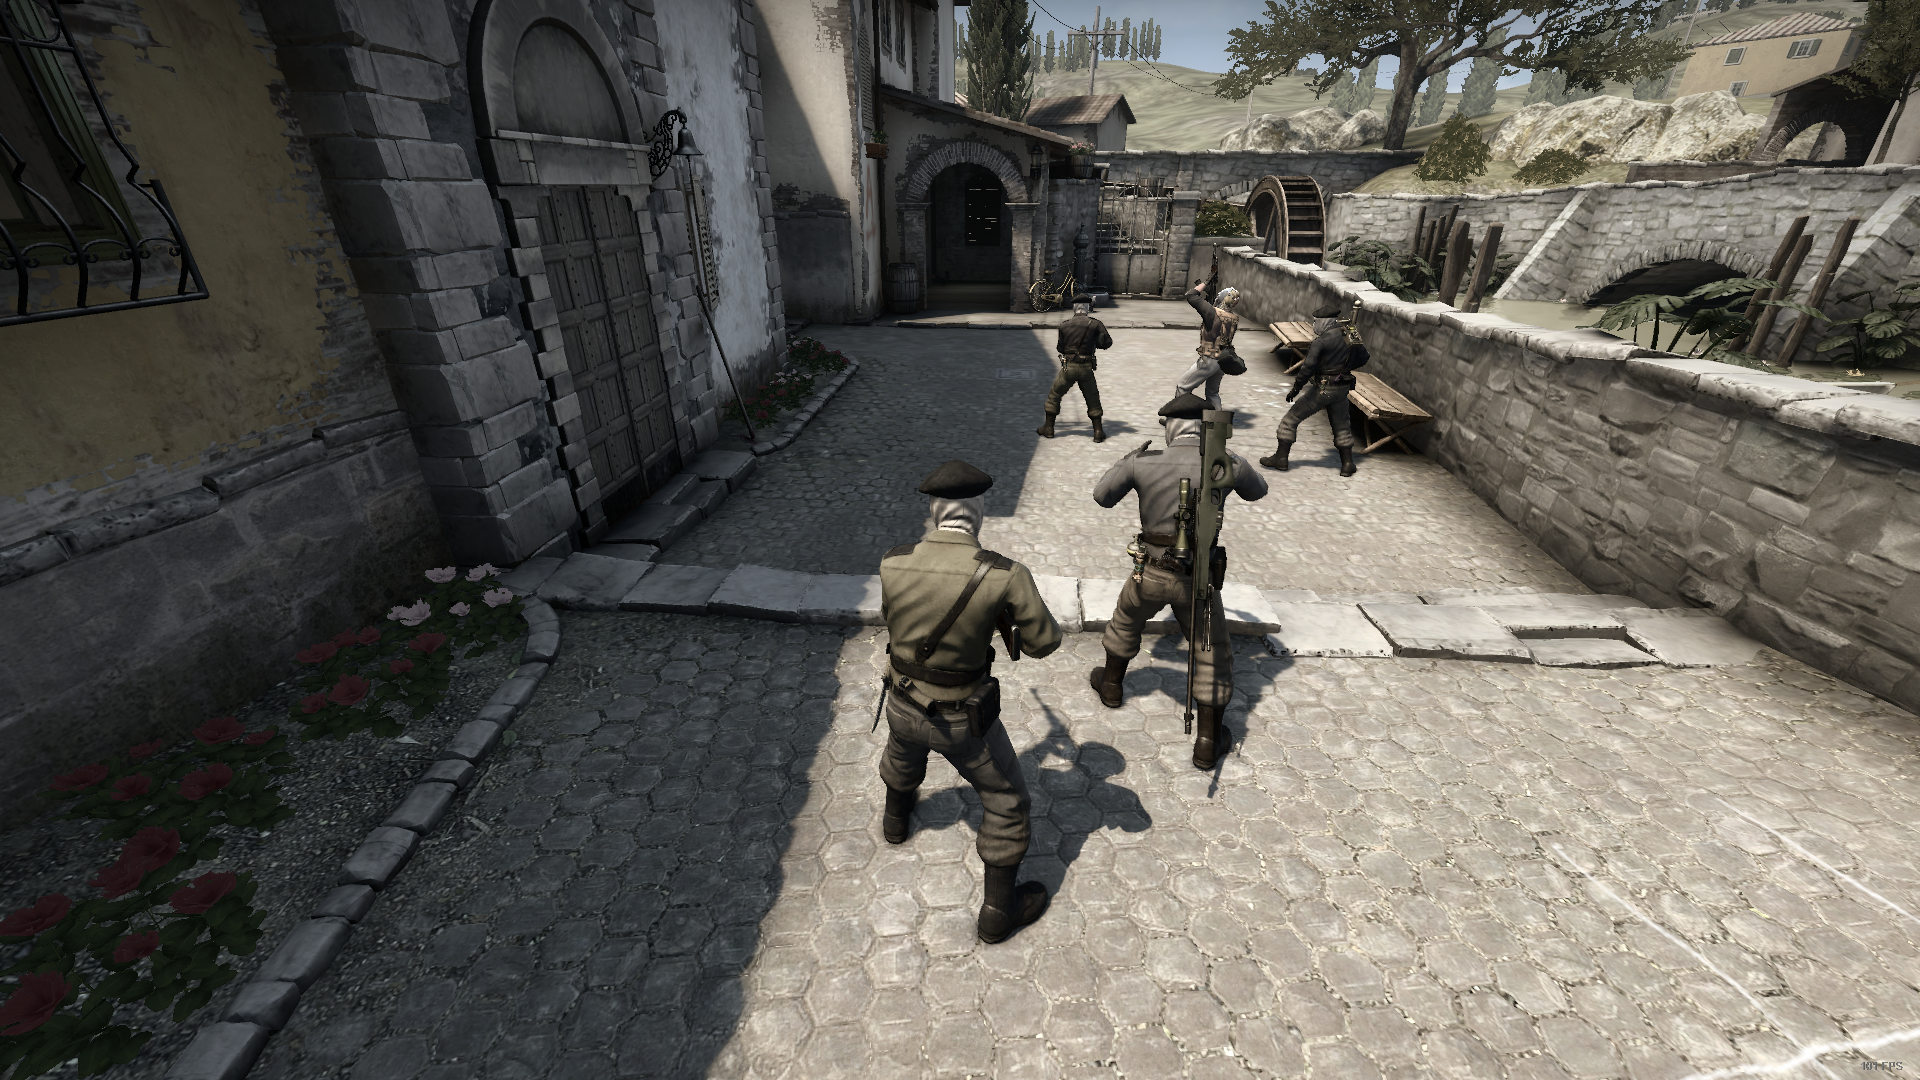t: (878, 460, 1064, 942), (1091, 393, 1269, 770), (1259, 306, 1369, 476), (1035, 294, 1114, 442)
